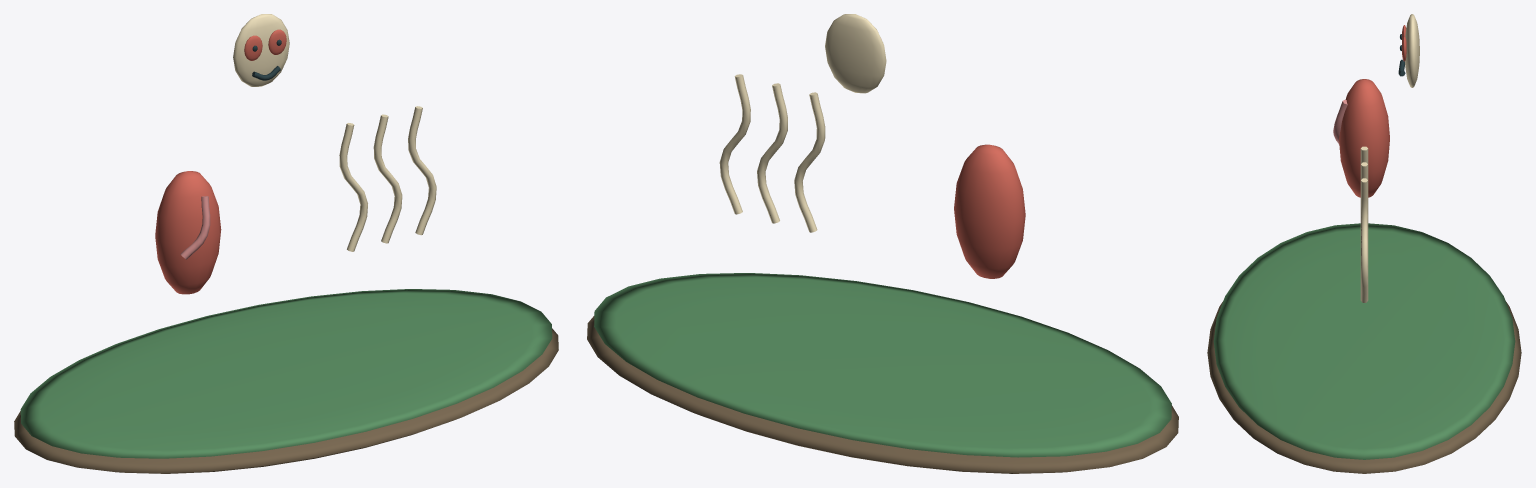
Rendered from complete-third-spleen-air-temper.glb.
The picture shows the model from 3 angles, left to right: view 1: azimuth 30°, elevation 25°; view 2: azimuth 150°, elevation 25°; view 3: azimuth 270°, elevation 25°; orthographic projection. The views are drawn at different scales.
Visible parts, largest first — view 1: complete-third-spleen-air-temper_surface_01, complete-third-spleen-air-temper_surface_00, complete-third-spleen-air-temper_surface_02, complete-third-spleen-air-temper_surface_04, complete-third-spleen-air-temper_surface_03; view 2: complete-third-spleen-air-temper_surface_01, complete-third-spleen-air-temper_surface_00, complete-third-spleen-air-temper_surface_04, complete-third-spleen-air-temper_surface_02; view 3: complete-third-spleen-air-temper_surface_01, complete-third-spleen-air-temper_surface_00, complete-third-spleen-air-temper_surface_02, complete-third-spleen-air-temper_surface_04.
Part boxes in pixels (x1,y1,x2,y2): complete-third-spleen-air-temper_surface_01: (20,289,552,458); complete-third-spleen-air-temper_surface_00: (14,328,558,473); complete-third-spleen-air-temper_surface_02: (155,29,286,294); complete-third-spleen-air-temper_surface_04: (233,14,436,251); complete-third-spleen-air-temper_surface_03: (180,196,210,259); complete-third-spleen-air-temper_surface_01: (594,273,1171,457); complete-third-spleen-air-temper_surface_00: (587,316,1178,473); complete-third-spleen-air-temper_surface_04: (719,14,886,232); complete-third-spleen-air-temper_surface_02: (954,144,1025,278); complete-third-spleen-air-temper_surface_01: (1213,223,1515,459); complete-third-spleen-air-temper_surface_00: (1207,302,1521,473); complete-third-spleen-air-temper_surface_02: (1339,25,1406,197); complete-third-spleen-air-temper_surface_04: (1360,14,1419,302).
Bounding box in the file's own units: 4.56 × 3.08 × 2.5.
